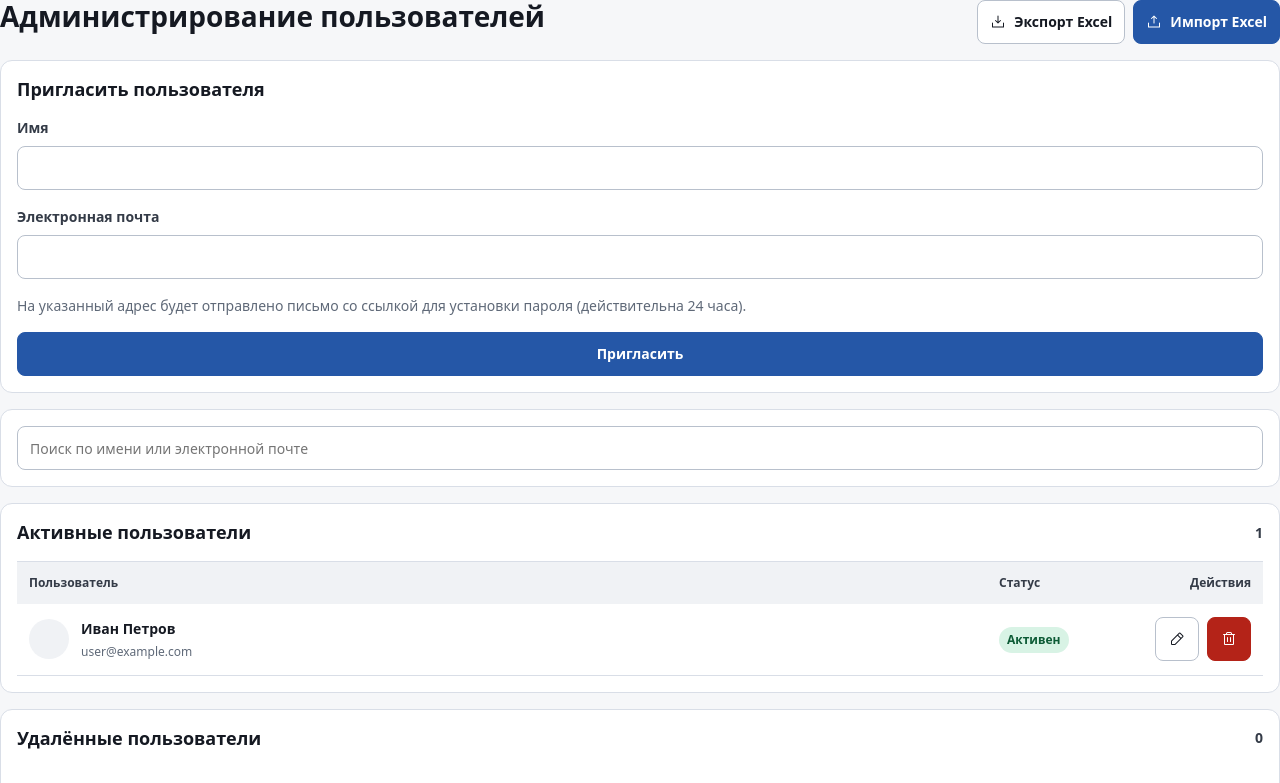
Test: AdminUsersPage — защита API-контракта › показывает смену аватара только в меню изменения учётных данных
Expected: the text "user@example.com" is shown, 81,643 -> 192,661
Click the button named "Изменить: Иван Петров". click: coordinates (1177, 639)
box: 1155,617 -> 1199,661
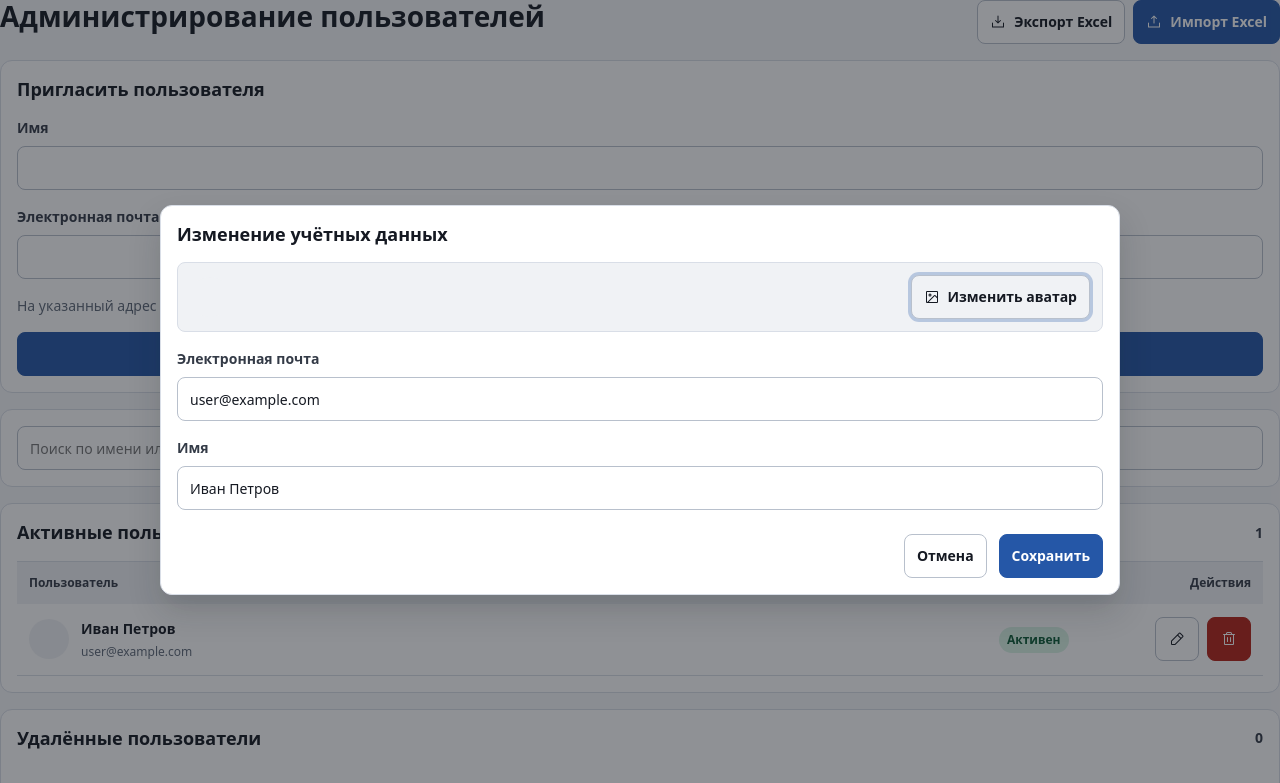
Now the dialog "Изменение учётных данных" is shown, box 160,205 -> 1120,595
Now the button "Изменить аватар" is shown, box 910,275 -> 1090,319
